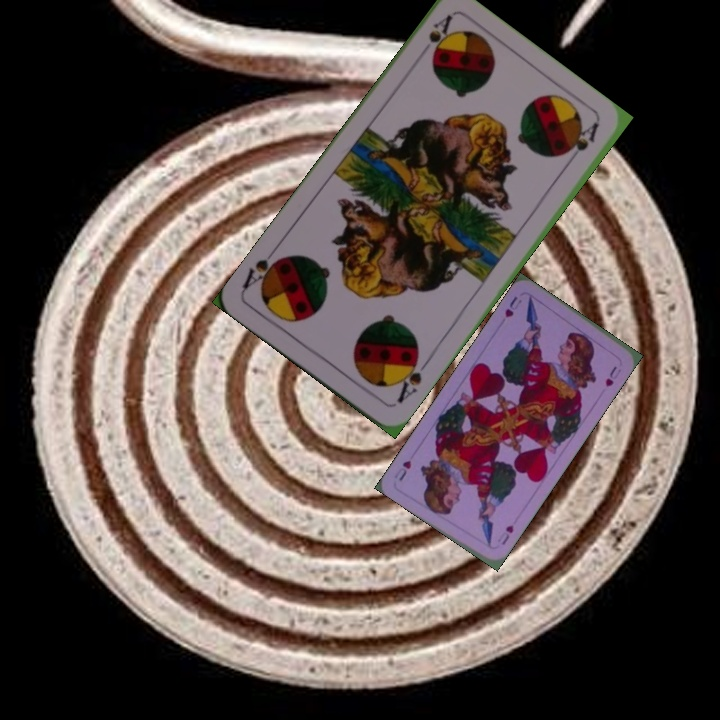HU: (501, 292, 525, 320), (493, 521, 516, 548)
SA: (390, 350, 432, 406), (424, 11, 455, 64)
